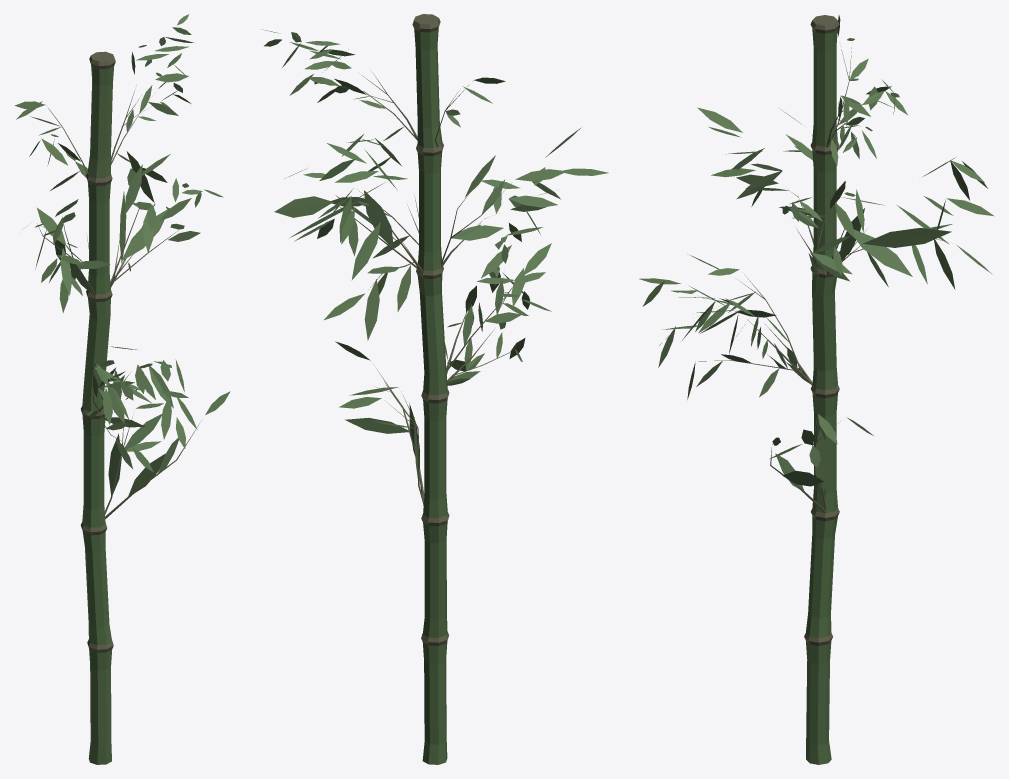
The model's file is Bamboo_01_B.fbx.
The picture shows the model from 3 angles, left to right: view 1: azimuth 30°, elevation 25°; view 2: azimuth 150°, elevation 25°; view 3: azimuth 270°, elevation 25°; orthographic projection. The views are drawn at different scales.
Visible parts, largest first — view 1: Bamboo_01_B; view 2: Bamboo_01_B; view 3: Bamboo_01_B.
Part boxes in pixels (bbox=[...]): Bamboo_01_B: bbox=[14, 14, 230, 764]; Bamboo_01_B: bbox=[263, 14, 608, 764]; Bamboo_01_B: bbox=[639, 15, 994, 764].
Size of the model in its own units: 58.13 by 158 by 68.66.
